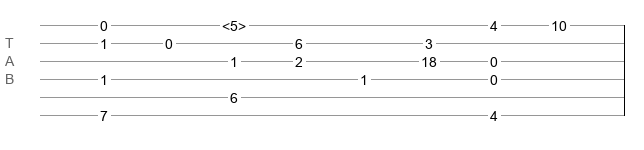0: (100, 18, 108, 28), (165, 36, 173, 46), (490, 54, 498, 64), (490, 72, 498, 82)
1: (100, 72, 108, 82), (100, 36, 108, 46), (230, 54, 238, 64), (360, 72, 368, 82)
10: (551, 18, 567, 28)
18: (421, 54, 437, 64)
2: (295, 54, 303, 64)
3: (425, 36, 433, 46)
4: (490, 18, 498, 28), (490, 108, 498, 118)
6: (230, 90, 238, 100), (295, 36, 303, 46)
7: (100, 108, 108, 118)
harmonic: (222, 18, 246, 28)
